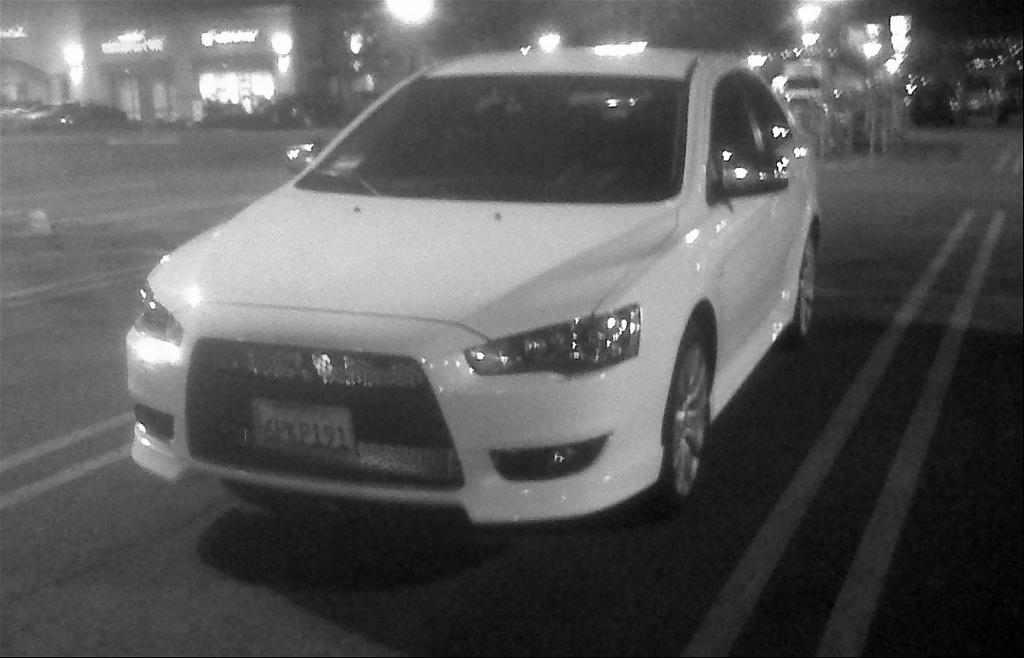car: (123, 44, 830, 557)
